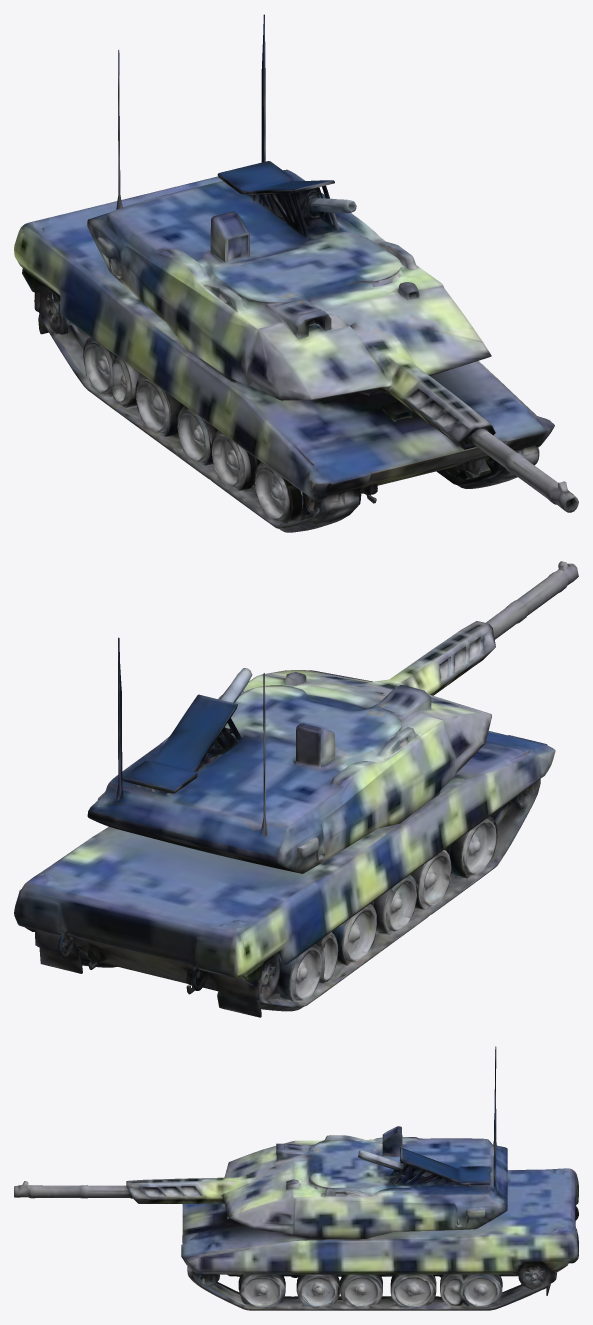
Rendered from kf51_opt.glb.
3 views of the same model, one above another, from view 1: azimuth 30°, elevation 25°; view 2: azimuth 150°, elevation 25°; view 3: azimuth 270°, elevation 25° (orthographic). The views are drawn at different scales.
Visible parts, largest first — view 1: node_0; view 2: node_0; view 3: node_0.
Boxes of the visible parts, <box> form: node_0: <box>14,14,578,532</box>; node_0: <box>14,561,578,1017</box>; node_0: <box>14,1046,578,1310</box>.
Bounding box in the file's own units: 0.3548 × 0.4704 × 1.14.
Materials: 1 (1 with a texture image).
